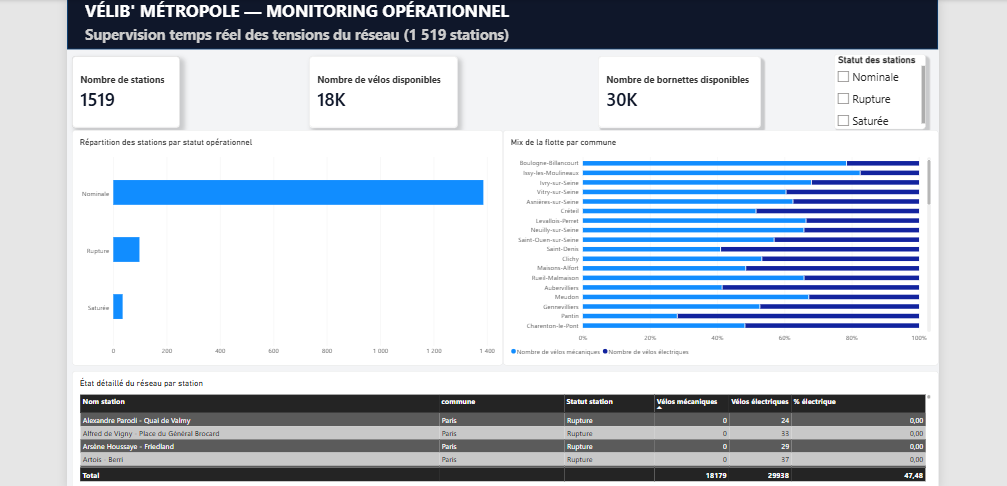

The page's visual inventory and layout, read from the dashboard file:
{"tool":"powerbi","page":{"name":"Page 1","canvas":[1920,1080],"ordinal":0},"visuals":[{"type":"cardVisual","fields":{"Data":["Count(public fct_velib_availability.station_id)"]},"box":[11,125.6,238,158.7],"z":0},{"type":"cardVisual","fields":{"Data":["Sum(public fct_velib_availability.bikes_available)"]},"box":[533.4,125.6,328.4,158.7],"z":1000},{"type":"slicer","fields":{"Values":["public fct_velib_availability.station_status"]},"box":[1690.7,120.9,201.6,166.3],"z":2000},{"type":"cardVisual","fields":{"Data":["Sum(public fct_velib_availability.docks_available)"]},"box":[1170.4,125.6,359.3,158.7],"z":3000},{"type":"clusteredBarChart","title":"Répartition des stations par statut opérationnel","fields":{"Category":["public fct_velib_availability.station_status"],"Y":["Count(public fct_velib_availability.station_id)"]},"box":[10.1,289.8,949.9,519.1],"z":4000},{"type":"hundredPercentStackedBarChart","title":"Mix de la flotte par commune","fields":{"Category":["public fct_velib_availability.commune"],"Y":["Sum(public fct_velib_availability.mechanical_bikes)","Sum(public fct_velib_availability.electric_bikes)"]},"box":[960,289.8,960,519.1],"z":5000},{"type":"tableEx","title":"État détaillé du réseau par station","fields":{"Values":["public fct_velib_availability.station_name","public fct_velib_availability.commune","public fct_velib_availability.station_status","Sum(public fct_velib_availability.bikes_available)","Sum(public fct_velib_availability.docks_available)","Avg(public fct_velib_availability.electrification_rate_pct)"]},"box":[10,820,1910,260],"z":6000},{"type":"shape","box":[0,0,1920,110.9],"z":7000},{"type":"textbox","box":[40.3,0,985.2,58],"z":8000},{"type":"textbox","box":[40.3,55.4,952.4,65.5],"z":9000}]}

Visuals, with their boxes on the page's 1920x1080 design canvas (x1, y1, x2, y2). These are canvas units, not pixel positions in the 1007x486 screenshot, which may show the page scaled, cropped or inside an application window:
cardVisual - Count(public fct_velib_availability.station_id): [11,126,249,284]
cardVisual - Sum(public fct_velib_availability.bikes_available): [533,126,862,284]
slicer - public fct_velib_availability.station_status: [1691,121,1892,287]
cardVisual - Sum(public fct_velib_availability.docks_available): [1170,126,1530,284]
"Répartition des stations par statut opérationnel" clusteredBarChart: [10,290,960,809]
"Mix de la flotte par commune" hundredPercentStackedBarChart: [960,290,1920,809]
"État détaillé du réseau par station" tableEx: [10,820,1920,1080]
shape: [0,0,1920,111]
textbox: [40,0,1026,58]
textbox: [40,55,993,121]
